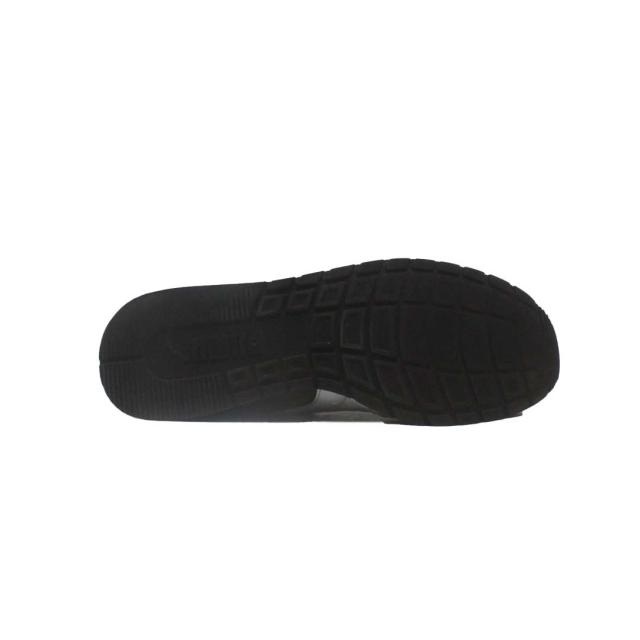outersole: (99, 260, 559, 428)
